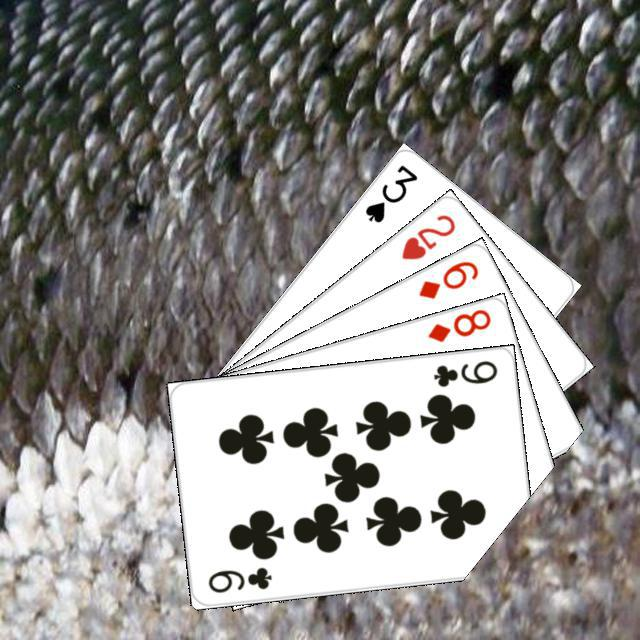2h: (396, 209, 458, 262)
3s: (360, 159, 419, 225)
6d: (413, 255, 480, 301)
8d: (423, 304, 493, 344)
9c: (429, 355, 499, 389), (203, 562, 273, 595)
